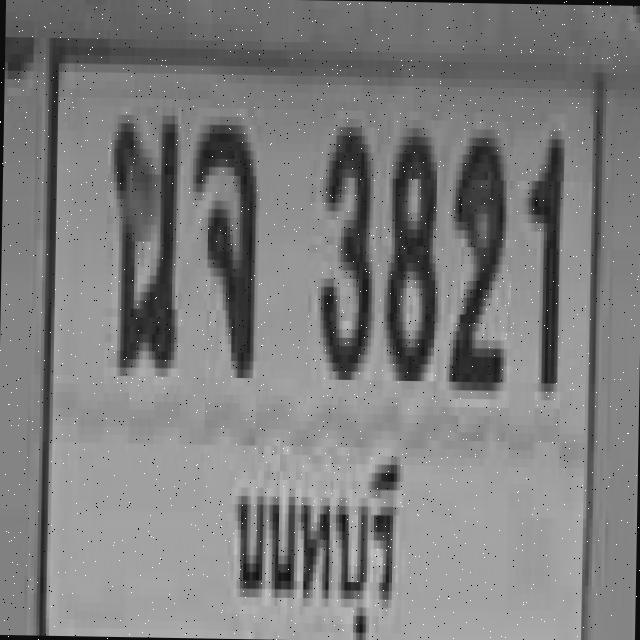1: (522, 126, 560, 379)
17ChorChan: (188, 112, 255, 366)
2: (446, 125, 504, 378)
3: (316, 114, 371, 367)
34NorNu: (106, 102, 176, 364)
8: (382, 115, 434, 368)
Nonthaburi: (225, 441, 404, 640)
